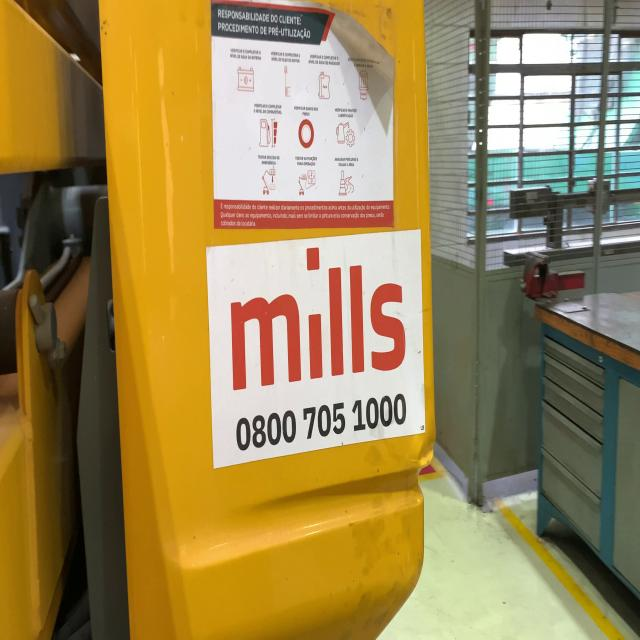Adesivos: (204, 225, 427, 472)
